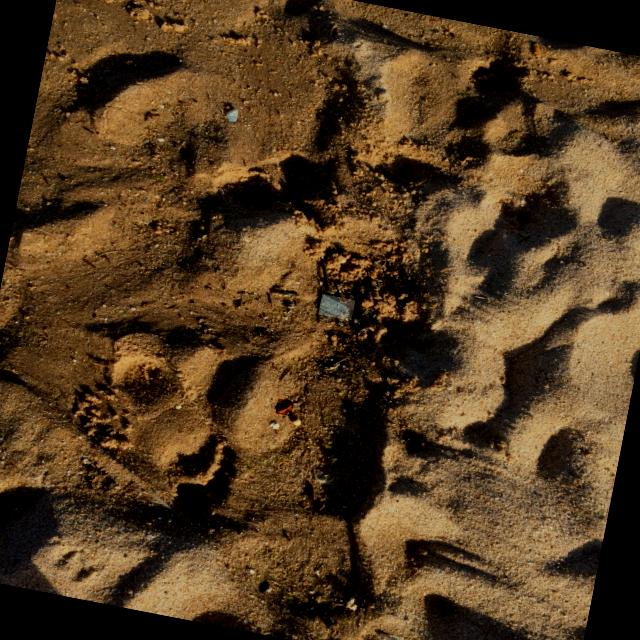Cigarette: (276, 401, 293, 414), (532, 44, 541, 58), (380, 635, 395, 640)
Other plastic bottle: (320, 295, 353, 317)
